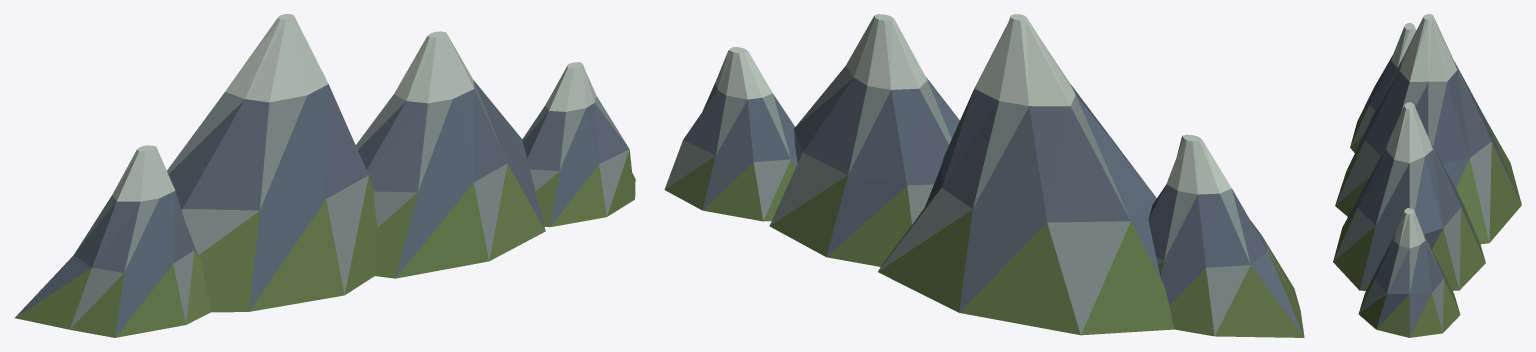
File: long_ridge.glb
3 renders of one model, left to right at view 1: azimuth 30°, elevation 25°; view 2: azimuth 150°, elevation 25°; view 3: azimuth 270°, elevation 25°, orthographic. The views are drawn at different scales.
Parts seen in each view (by area): view 1: long_ridge; view 2: long_ridge; view 3: long_ridge.
Boxes of the visible parts, left/top/right/bottom form: long_ridge: left=15, top=14, right=635, bottom=337; long_ridge: left=664, top=14, right=1304, bottom=337; long_ridge: left=1333, top=14, right=1521, bottom=337.
Bounding box in the file's own units: 29.68 × 11 × 9.96.
